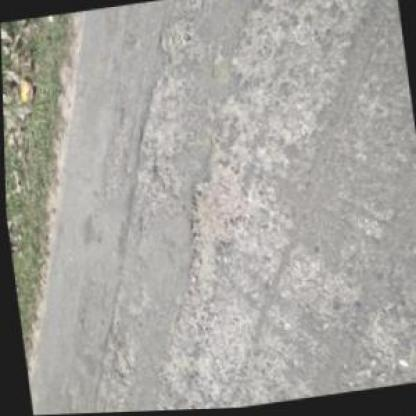pothole: (170, 161, 250, 308), (121, 68, 190, 193), (156, 15, 198, 58)
